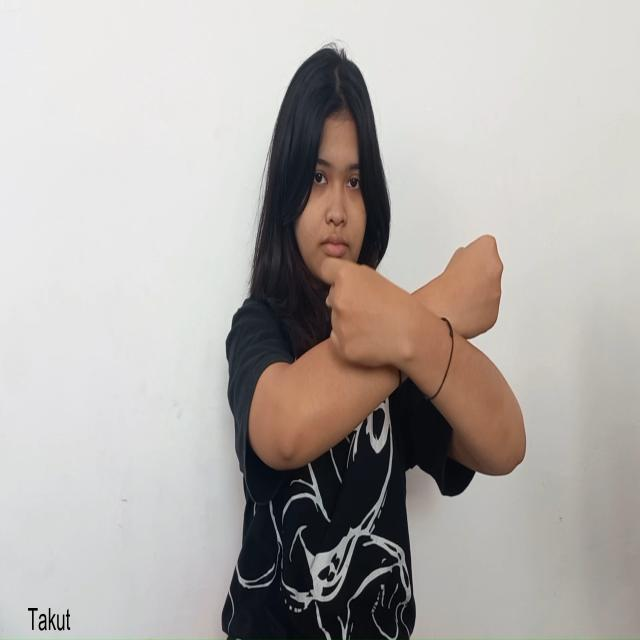Takut -BISINDO-: (318, 233, 504, 413)
